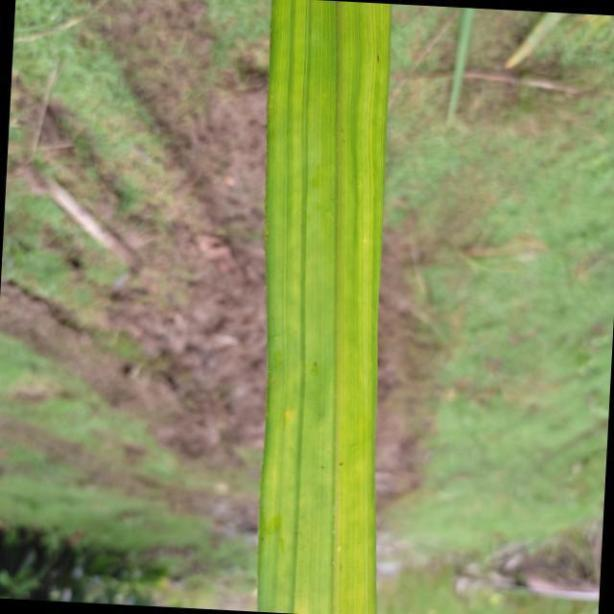nitrogen: (251, 0, 392, 614)
